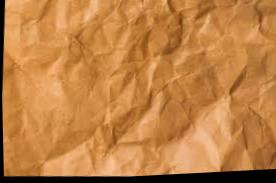paper: (3, 0, 275, 174)
